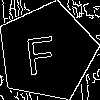F: (22, 27, 59, 76)
